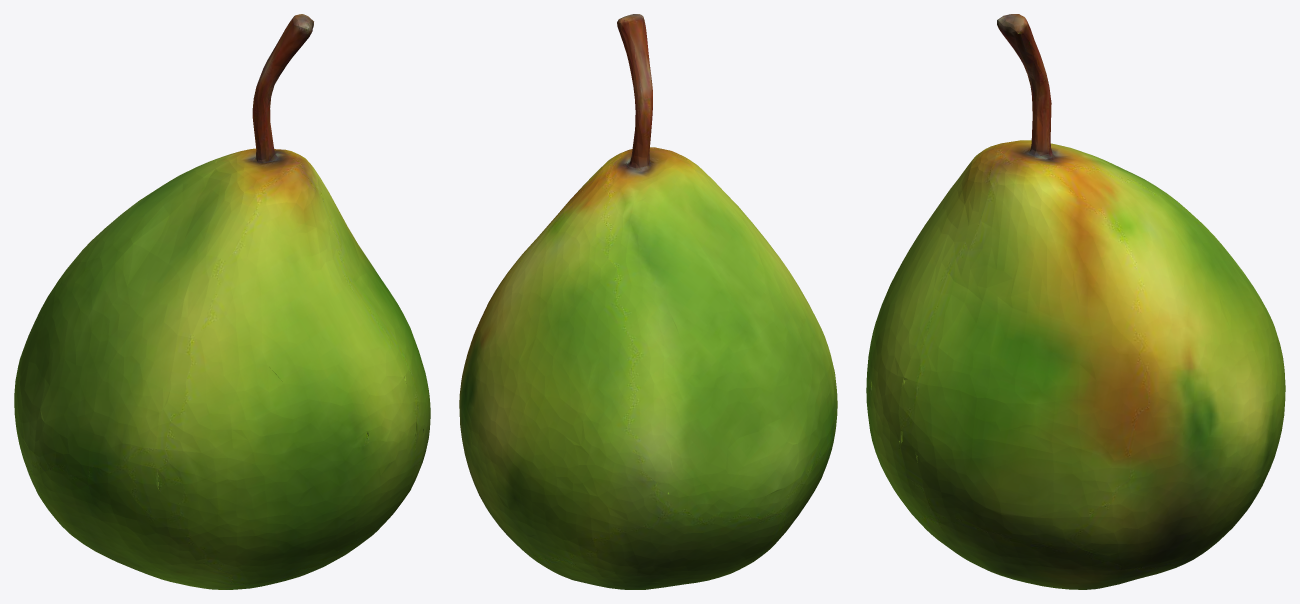
The model's file is green_pear_in_the_background_right_000.glb.
The picture shows the model from 3 angles, left to right: view 1: azimuth 30°, elevation 25°; view 2: azimuth 150°, elevation 25°; view 3: azimuth 270°, elevation 25°; orthographic projection. The views are drawn at different scales.
Visible parts, largest first — view 1: phase2_final_green_pear_in_the_background_right_000.obj; view 2: phase2_final_green_pear_in_the_background_right_000.obj; view 3: phase2_final_green_pear_in_the_background_right_000.obj.
Part boxes in pixels (x1,y1,x2,y2): phase2_final_green_pear_in_the_background_right_000.obj: [14, 14, 430, 589]; phase2_final_green_pear_in_the_background_right_000.obj: [459, 14, 837, 589]; phase2_final_green_pear_in_the_background_right_000.obj: [866, 14, 1285, 589].
Size of the model in its own units: 0.2658 by 0.4036 by 0.2721.
Materials: 1 (1 with a texture image).
